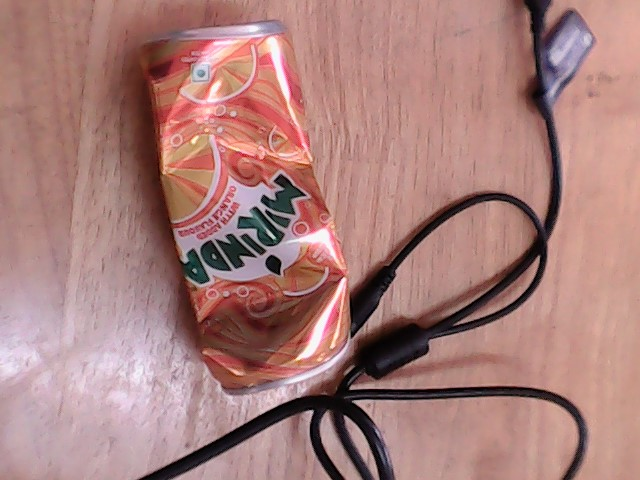Metal: (149, 39, 345, 370)
